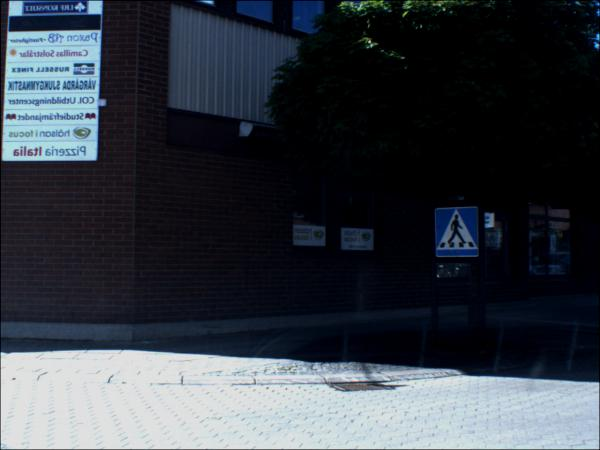PEDESTRIAN_CROSSING: (437, 208, 480, 259)
